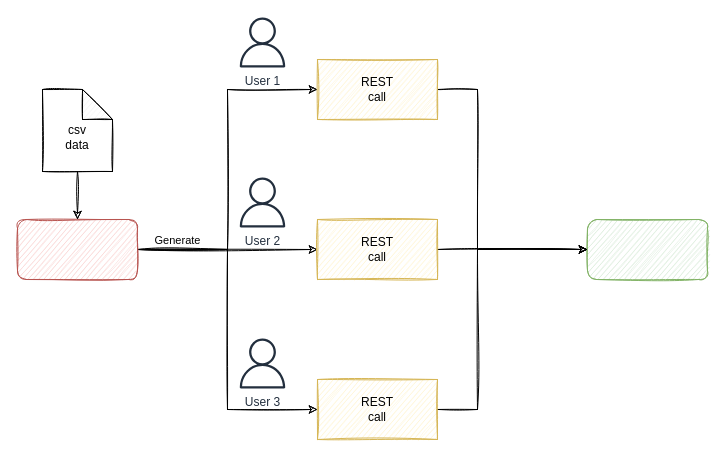
This 725x457 diagram has some shape labels left out. Each missing label, with the centre of its shape:
JMeter: point 77,249
SpringBoot Application: point 647,249
